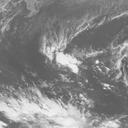cyclone: (41, 32, 87, 73)
